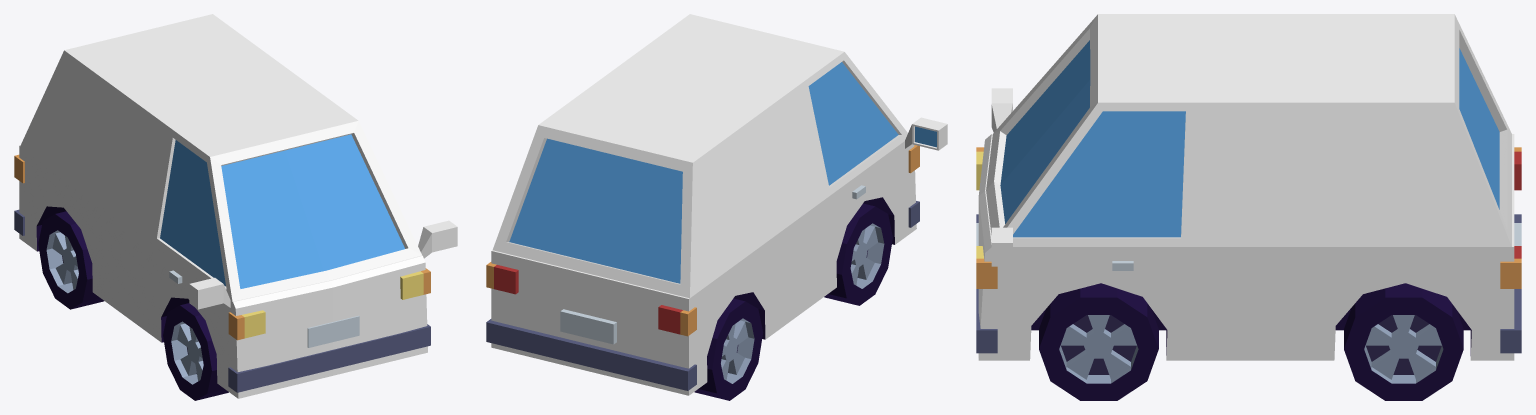
The model's file is Truck1.fbx.
The picture shows the model from 3 angles, left to right: view 1: azimuth 30°, elevation 25°; view 2: azimuth 150°, elevation 25°; view 3: azimuth 270°, elevation 25°; orthographic projection. The views are drawn at different scales.
Parts seen in each view (by area): view 1: Cube.004; view 2: Cube.004; view 3: Cube.004.
Boxes of the visible parts, <box> form: Cube.004: <box>14,14,457,400</box>; Cube.004: <box>486,14,947,400</box>; Cube.004: <box>976,14,1521,400</box>.
Bounding box in the file's own units: 2.74 × 4.07 × 2.35.
Materials: 1 (1 with a texture image).
